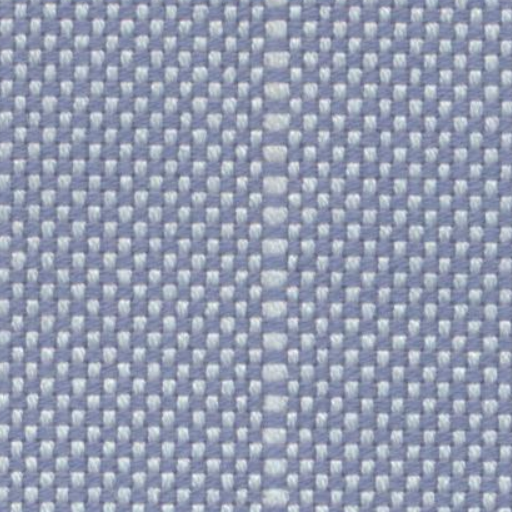TuoSha: (238, 10, 310, 495)
